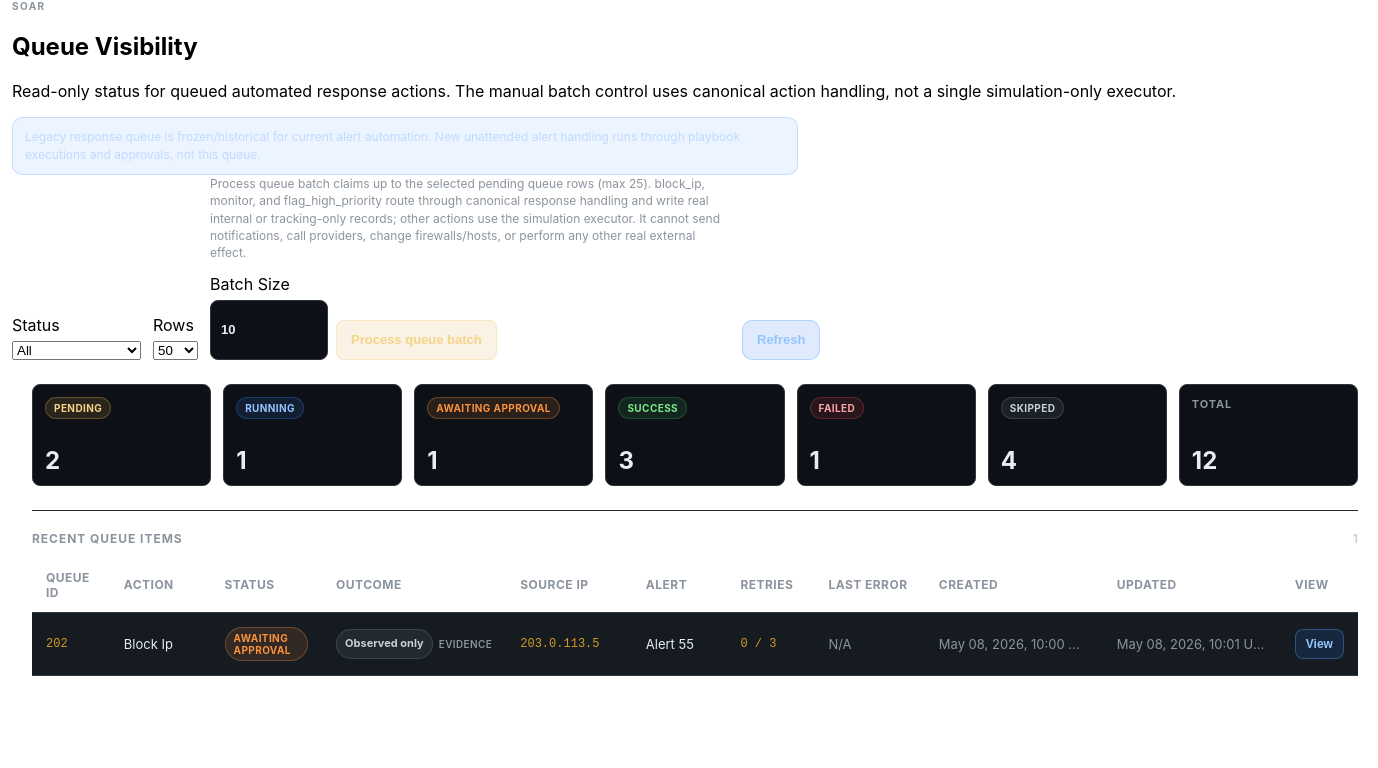
Test: SoarQueuePanel › shows approval-waiting note in detail for awaiting approval item
The image size is (1378, 768).
Check: the text "Recent Queue Items" is shown, box left=32, top=531, right=183, bottom=546
Click the button "View" at (1319, 644), box left=1295, top=629, right=1344, bottom=659
(page scrolled)
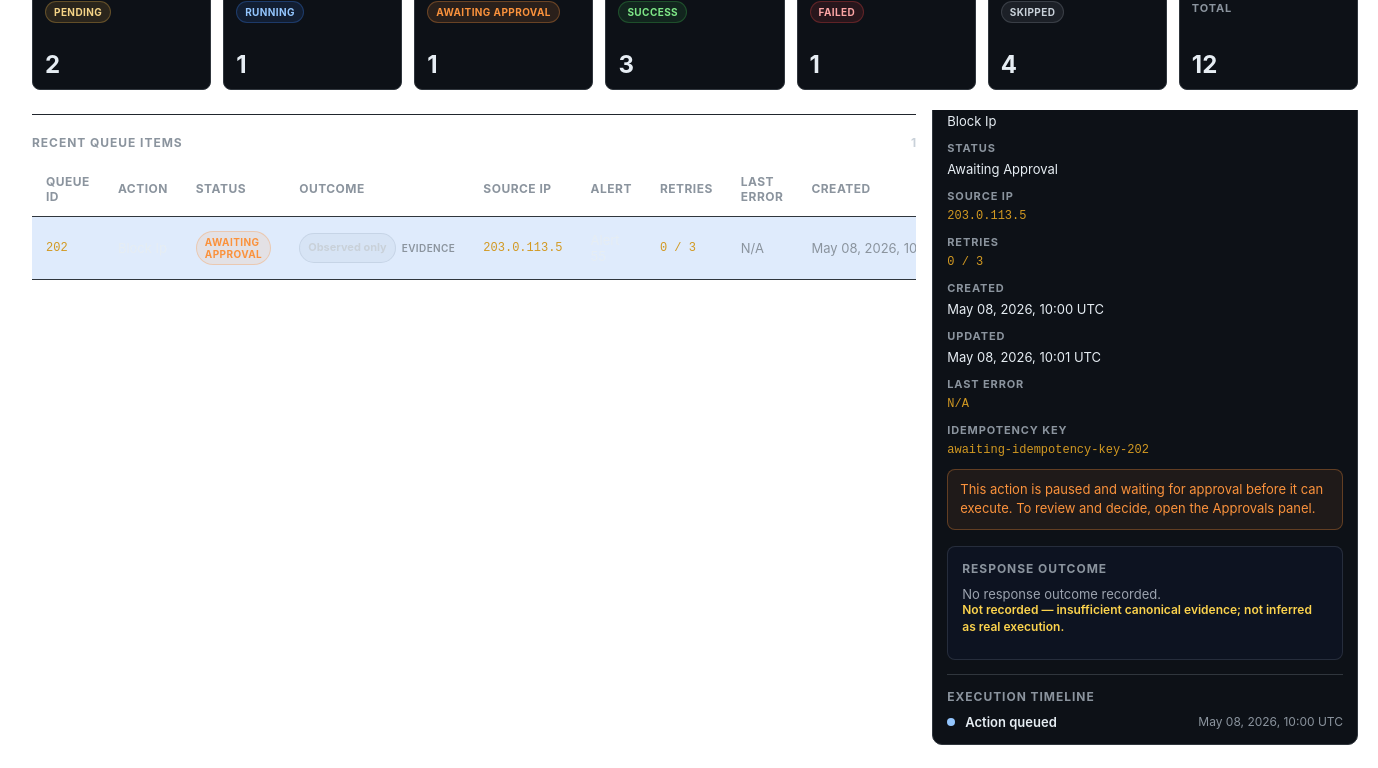
Check: the text "This action is paused and waiting for approval" is shown, box left=960, top=481, right=1323, bottom=516
